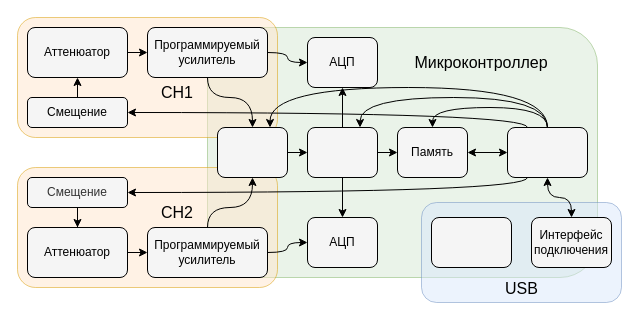
Image size: 639x320. Some labels were removed from this diagram. Here are the shapes that lost their labels. From the top down, the centre of each, then its label:
point (252, 152): Триггер
point (342, 152): Логика выборки
point (547, 152): Контроллер
point (471, 242): Питание
